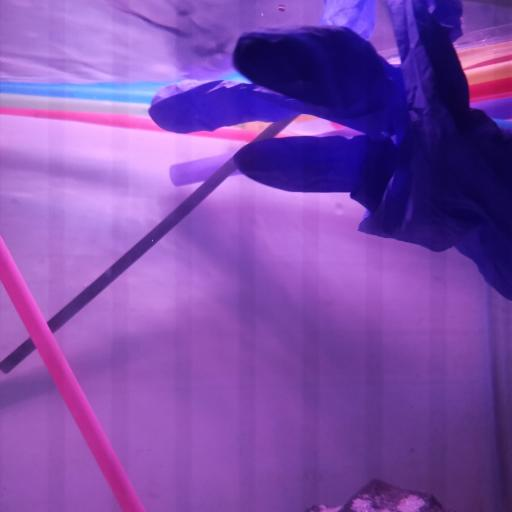glove: (148, 0, 512, 306)
plastic_straw: (3, 110, 300, 373), (1, 238, 149, 512), (169, 94, 512, 188), (0, 106, 293, 141), (0, 93, 151, 118), (0, 80, 156, 104), (461, 59, 512, 105)
